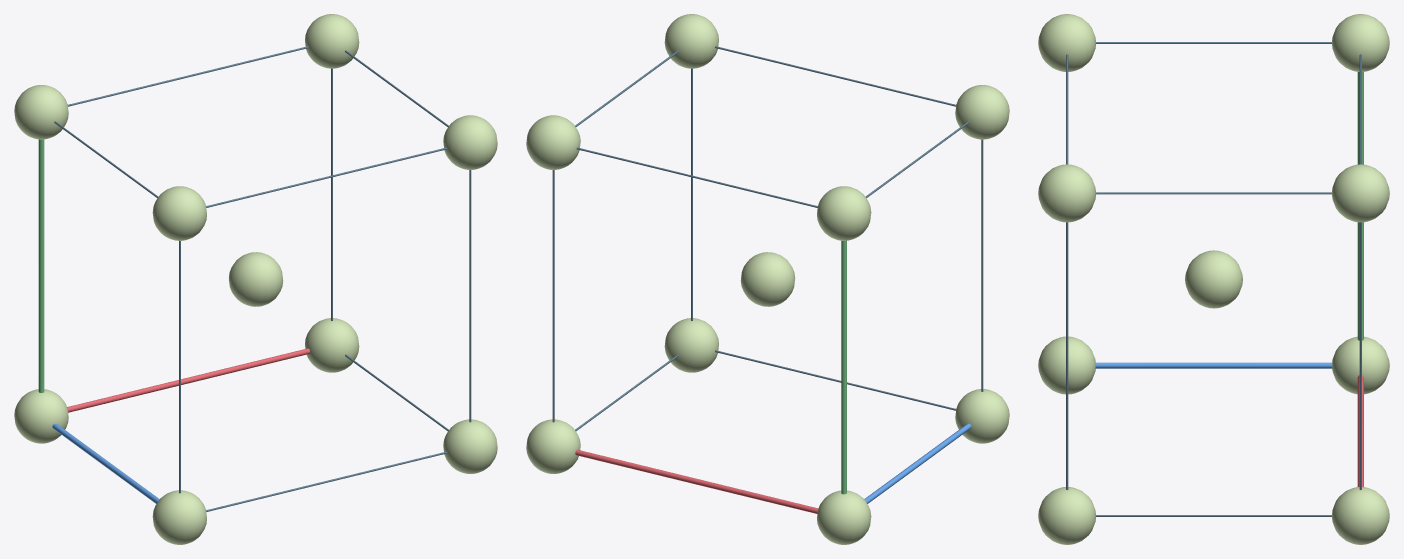
File: nguyen-to-pa.glb
3 renders of one model, left to right at view 1: azimuth 30°, elevation 25°; view 2: azimuth 150°, elevation 25°; view 3: azimuth 270°, elevation 25°, orthographic. The views are drawn at different scales.
Visible parts, largest first — view 1: Pa1 · Pa · 1 (×9), Ô mạng và các trục a, b, c; view 2: Pa1 · Pa · 1 (×9), Ô mạng và các trục a, b, c; view 3: Pa1 · Pa · 1 (×9), Ô mạng và các trục a, b, c.
Part boxes in pixels (x1=…): Pa1 · Pa · 1 (×9): x1=14, y1=14, x2=497, y2=544; Ô mạng và các trục a, b, c: x1=38, y1=46, x2=471, y2=511; Pa1 · Pa · 1 (×9): x1=526, y1=14, x2=1009, y2=544; Ô mạng và các trục a, b, c: x1=552, y1=46, x2=983, y2=513; Pa1 · Pa · 1 (×9): x1=1038, y1=14, x2=1389, y2=544; Ô mạng và các trục a, b, c: x1=1066, y1=42, x2=1363, y2=516.
Bounding box in the file's own units: 4.56 × 4.56 × 3.87.
